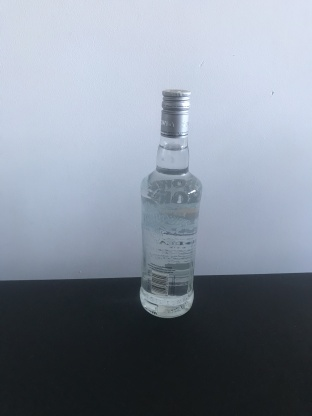nakretka: (158, 87, 192, 139)
